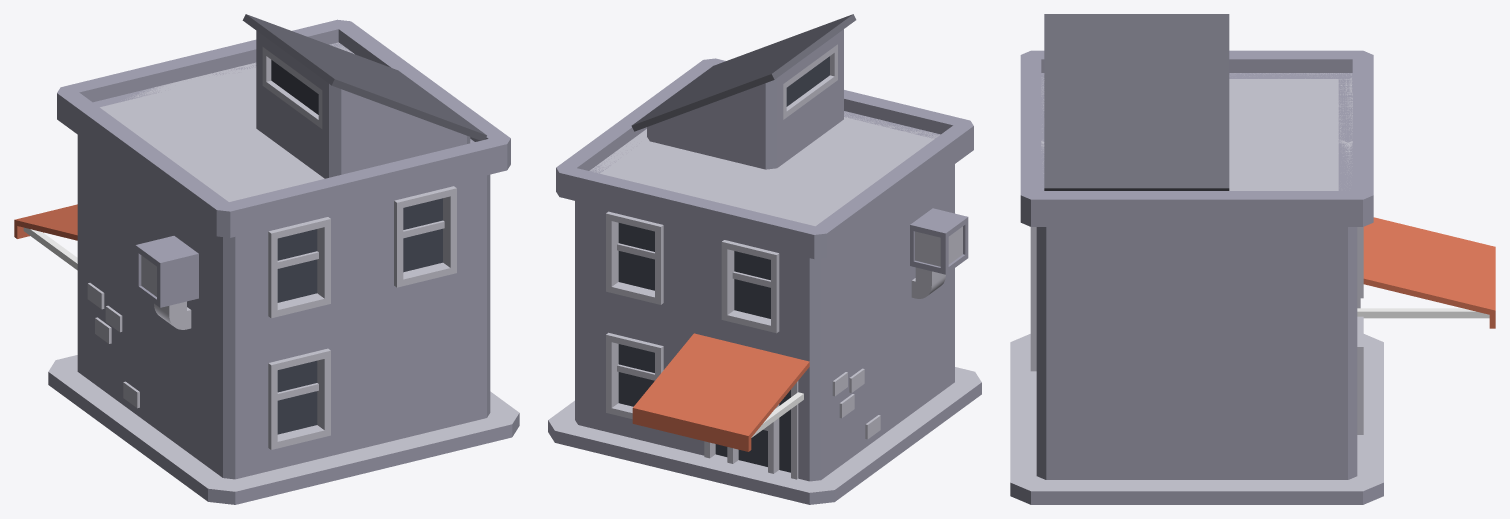
Rendered from Building-2x2.fbx.
3 renders of one model, left to right at view 1: azimuth 30°, elevation 25°; view 2: azimuth 150°, elevation 25°; view 3: azimuth 270°, elevation 25°, orthographic. The views are drawn at different scales.
Visible parts, largest first — view 1: roof_factorySlant_75, wall_window_60, wall_straight_67, wall_window_56, roof_corner_70, roof_corner_71, wall_window_55, roof_square_49, wall_straight_64, wall_straight_63, wall_straight_66, roof_corner_73 (+5 smaller); view 2: roof_factorySlant_75, roof_corner_71, awning_singleTone%_68, wall_window_54, roof_square_49, wall_window_53, roof_corner_70, roof_corner_72, wall_window_51, wall_straight_64, wall_straight_63, wall_straight_66 (+6 smaller); view 3: roof_factorySlant_75, wall_straight_57, wall_straight_58, wall_straight_61, wall_straight_62, roof_square_49, roof_corner_72, roof_corner_71, awning_singleTone%_68, roof_corner_73, wall_window_53, wall_window_51 (+4 smaller).
Boxes of the visible parts, <box> form: roof_factorySlant_75: <box>242,14,486,178</box>; wall_window_60: <box>223,317,360,479</box>; wall_straight_67: <box>361,286,486,448</box>; wall_window_56: <box>223,206,360,347</box>; roof_corner_70: <box>137,130,372,237</box>; roof_corner_71: <box>57,53,267,177</box>; wall_window_55: <box>361,174,490,316</box>; roof_square_49: <box>48,355,519,504</box>; wall_straight_64: <box>150,301,222,477</box>; wall_straight_63: <box>77,240,150,424</box>; wall_straight_66: <box>77,135,150,281</box>; roof_corner_73: <box>359,80,510,203</box>; roof_factorySlant_75: <box>631,14,856,169</box>; roof_corner_71: <box>684,165,900,259</box>; awning_singleTone%_68: <box>632,333,809,451</box>; wall_window_54: <box>694,230,821,360</box>; roof_square_49: <box>548,367,981,504</box>; wall_window_53: <box>575,201,693,331</box>; roof_corner_70: <box>779,90,973,203</box>; roof_corner_72: <box>556,112,745,227</box>; wall_window_51: <box>575,299,693,452</box>; wall_straight_64: <box>888,268,954,430</box>; wall_straight_63: <box>821,310,887,479</box>; wall_straight_66: <box>821,213,887,358</box>; roof_factorySlant_75: <box>1044,14,1229,190</box>; wall_straight_57: <box>1036,339,1196,479</box>; wall_straight_58: <box>1197,343,1347,479</box>; wall_straight_61: <box>1037,227,1196,343</box>; wall_straight_62: <box>1197,227,1347,343</box>; roof_square_49: <box>1010,334,1383,504</box>; roof_corner_72: <box>1187,124,1373,226</box>; roof_corner_71: <box>1229,50,1373,143</box>; awning_singleTone%_68: <box>1357,217,1495,328</box>; roof_corner_73: <box>1020,121,1206,226</box>; wall_window_53: <box>1338,138,1363,343</box>; wall_window_51: <box>1348,316,1363,479</box>.
Size of the model in its own units: 26.08 by 29.28 by 32.15.
